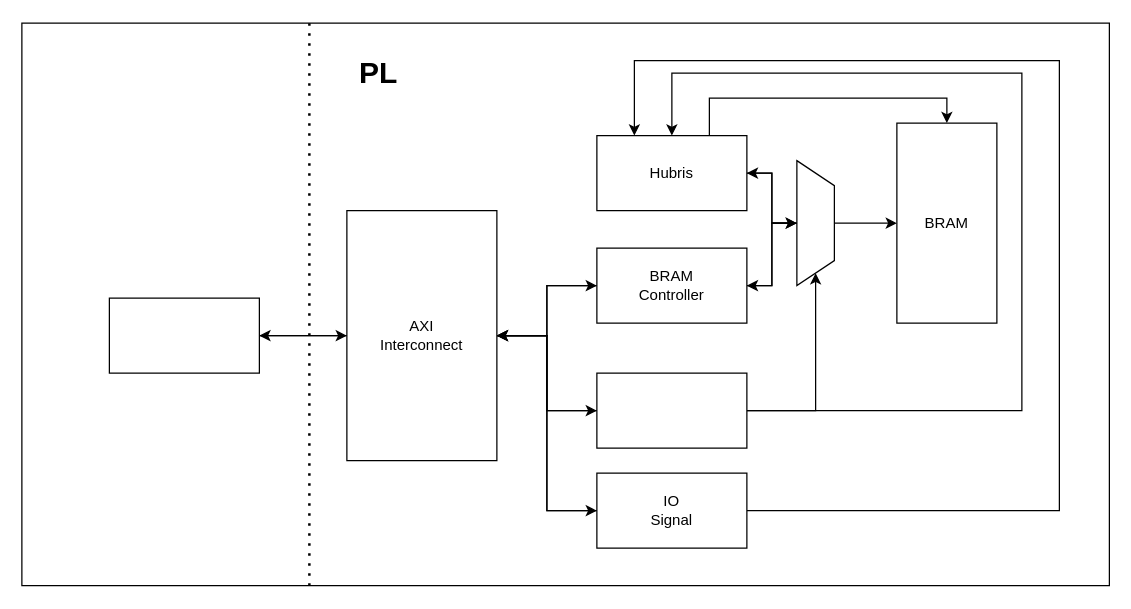
The diagram is 1131 pixels wide and 609 high, and some of its shapes have lost their labels. The centre of each missing label's shape, as x and y in pixels:
"Control Signal" belongs at [671,410].
"PS" belongs at [183,335].
